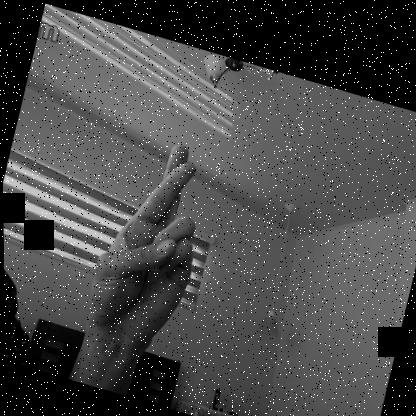R: (75, 125, 224, 365)
